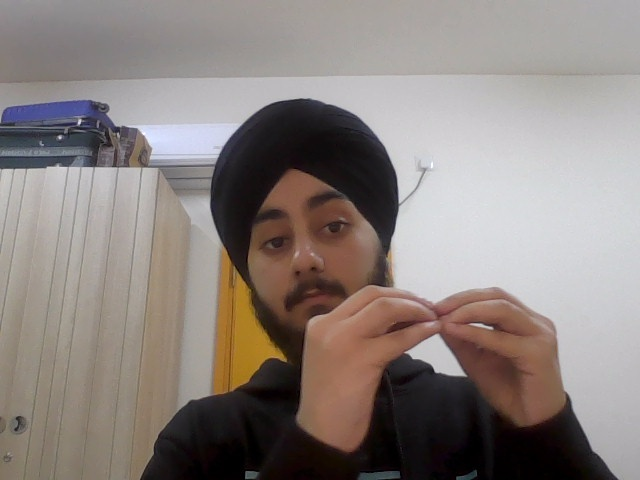More: (297, 278, 573, 440)
